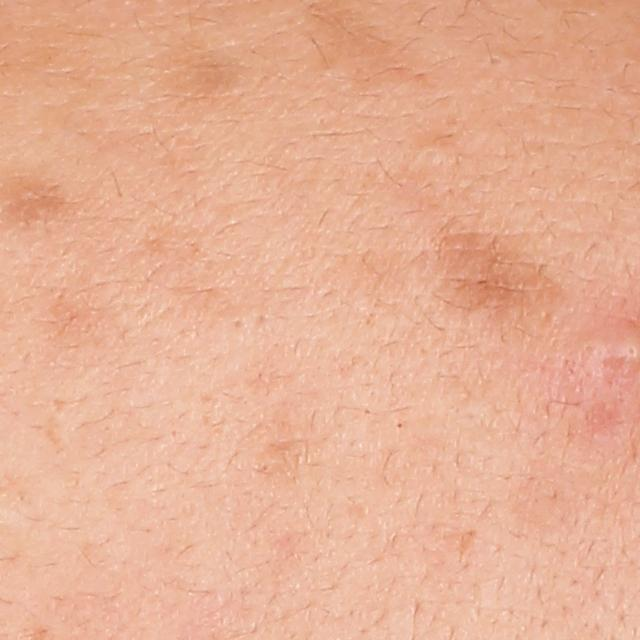comedo: (405, 133, 462, 173), (481, 53, 508, 70)
